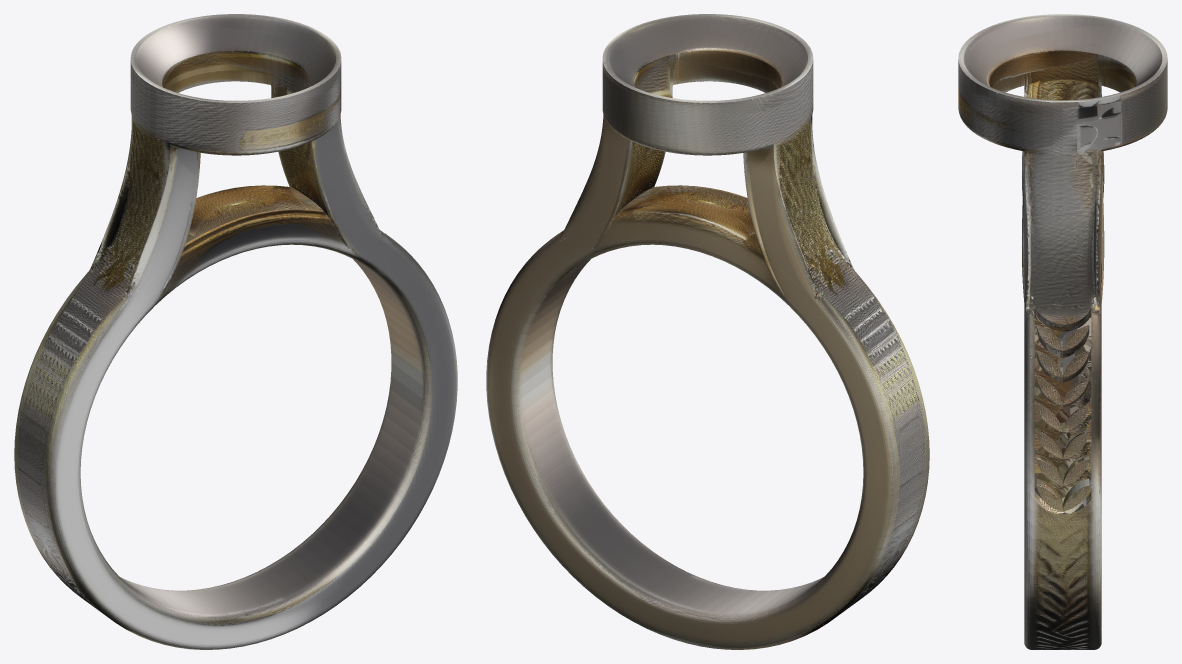
3 renders of one model, left to right at view 1: azimuth 30°, elevation 25°; view 2: azimuth 150°, elevation 25°; view 3: azimuth 270°, elevation 25°, orthographic.
Visible parts, largest first — view 1: Node; view 2: Node; view 3: Node.
Boxes of the visible parts, left/top/right/bottom form: Node: left=14, top=14, right=457, bottom=649; Node: left=486, top=14, right=929, bottom=649; Node: left=958, top=14, right=1167, bottom=649.
Bounding box in the file's own units: 1.5 × 2 × 0.6658.
1 material, 1 textured.
